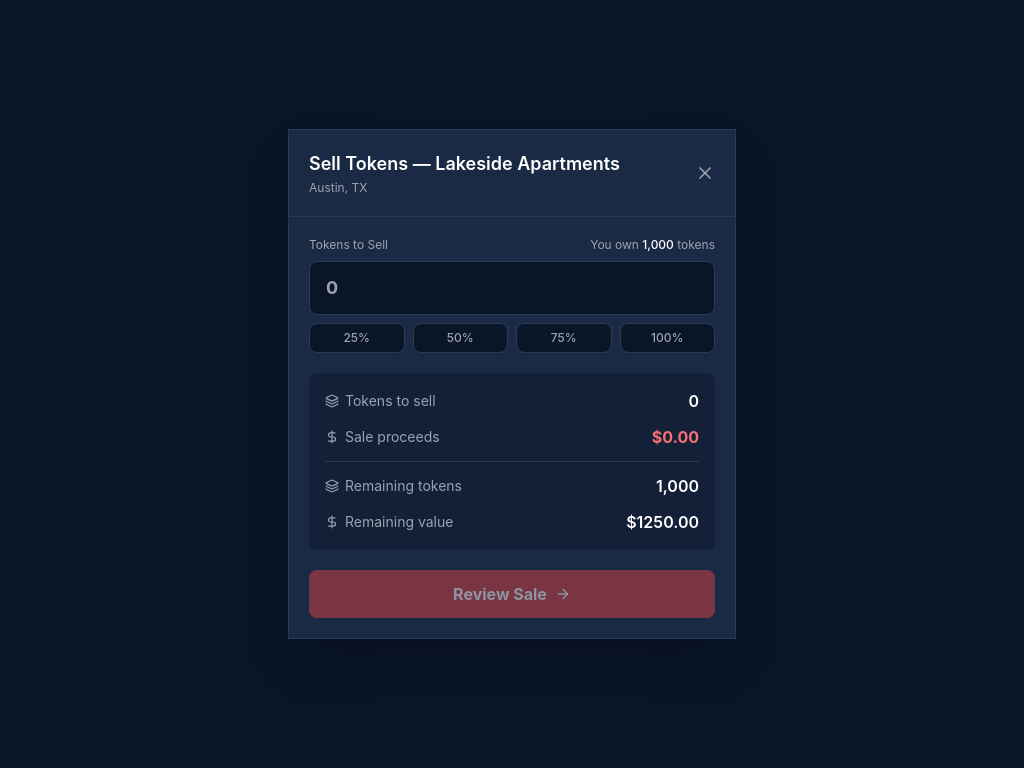
Scenario: SellModal › Step 1 — tokens › clicking 50% quick-select sets tokenCount to 500
Click the button "50%": (460, 338) [412, 323, 508, 353]
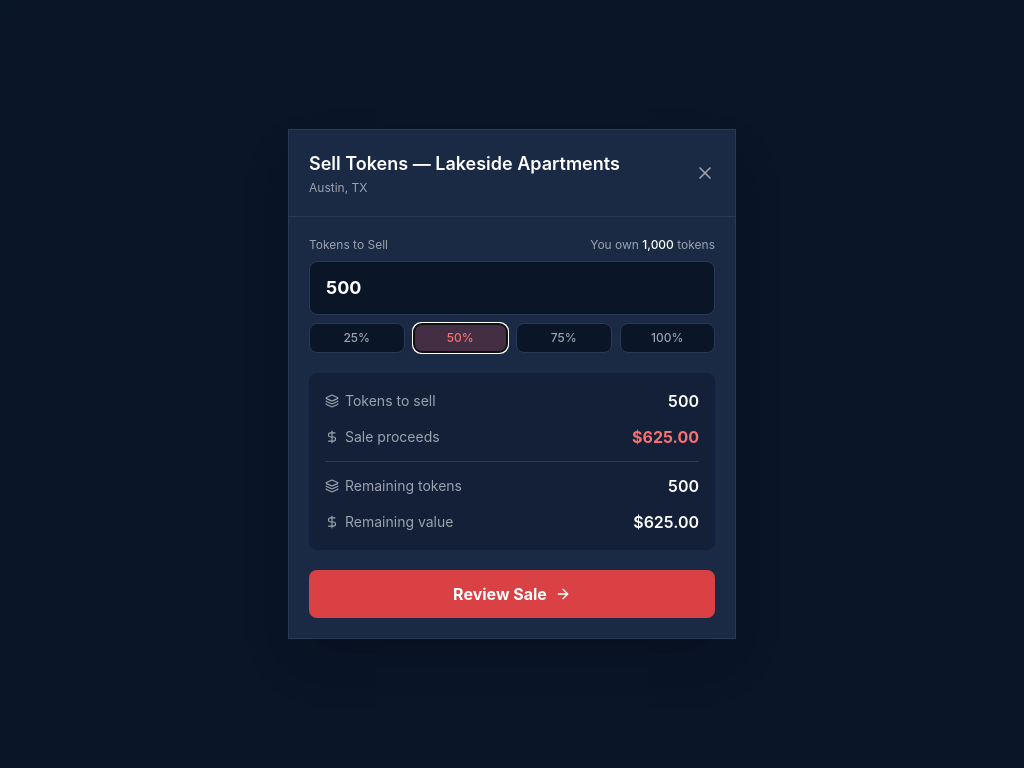
Now the text "$625.00" in the row of "Sale proceeds" is shown, box [632, 425, 699, 449]
